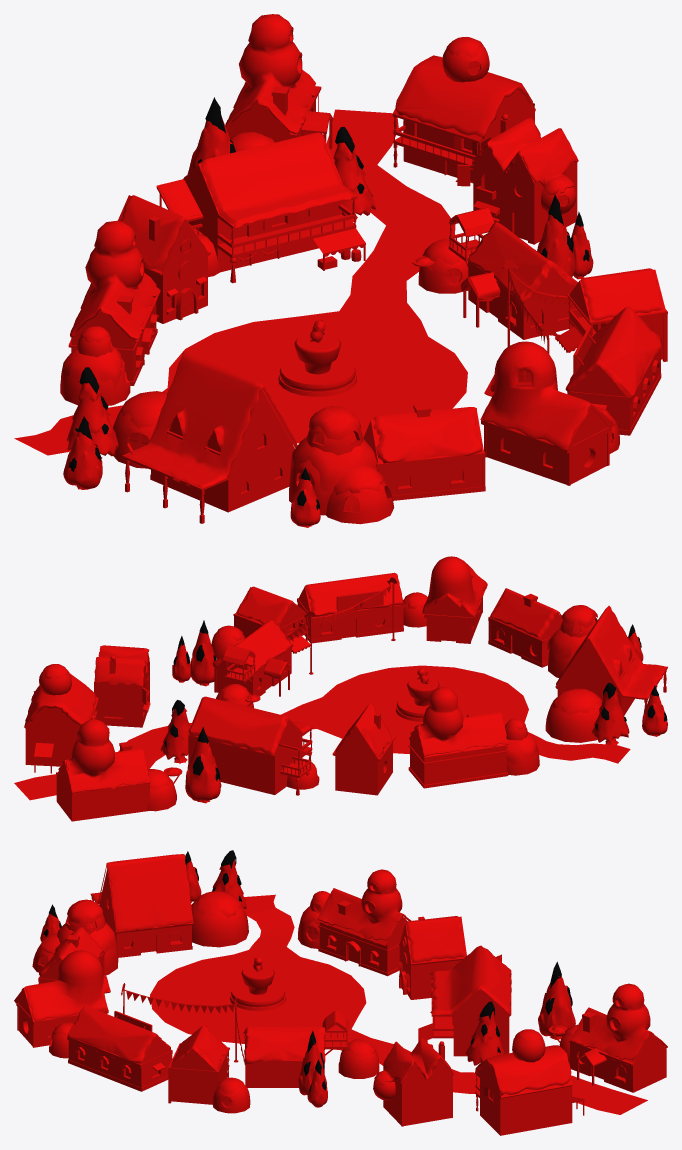
The model's file is Nighborhood_IceBreakerAlley_02.glb.
3 views of the same model, one above another, from view 1: azimuth 30°, elevation 25°; view 2: azimuth 150°, elevation 25°; view 3: azimuth 270°, elevation 25° (orthographic). The views are drawn at different scales.
Parts seen in each view (by area): view 1: Object_Road, Building_Platform2Story, Building_TallRoof, Building_House_1IglooStack, Building_House_FlatRoofIgloo, Building_2Roofs, Building_1StoryHouse, Building_Platformed1Story, Building_House_2IglooStack, Building_House_2IglooStack1, Building_3WayIgloo, Building_House_3Windows (+14 smaller); view 2: Object_Road, Building_Platform2Story, Building_House_2IglooStack1, Building_House_2IglooStack, Building_TallRoof, Building_House_3Windows, Building_House_FlatRoofIgloo, Building_House_1IglooStack, Building_2Roofs, Building_CoffeeShop, Building_Platformed1Story, Building_1StoryHouse (+17 smaller); view 3: Object_Road, Building_TallRoof, Building_House_FlatRoofIgloo, Building_House_2IglooStack, Building_House_2IglooStack1, Building_Platform2Story, Building_House_3Windows, Building_2Roofs, Building_House_1IglooStack, Building_Platformed1Story, Building_CoffeeShop, Building_PurpleTent (+16 smaller).
Boxes of the visible parts, x1,y1,x2,y2 form: Object_Road: (14,109,467,455); Building_Platform2Story: (156,132,365,283); Building_TallRoof: (122,351,297,523); Building_House_1IglooStack: (480,341,615,485); Building_House_FlatRoofIgloo: (392,37,535,183); Building_2Roofs: (457,114,578,244); Building_1StoryHouse: (363,403,485,500); Building_Platformed1Story: (448,207,577,339); Building_House_2IglooStack: (225,14,333,148); Building_House_2IglooStack1: (68,220,160,385); Building_3WayIgloo: (289,406,394,524); Building_House_3Windows: (565,306,662,435); Object_Road: (14,665,630,800); Building_Platform2Story: (187,696,312,795); Building_House_2IglooStack1: (408,687,508,788); Building_House_2IglooStack: (56,719,150,821); Building_TallRoof: (555,605,667,715); Building_House_3Windows: (297,572,405,643); Building_House_FlatRoofIgloo: (24,664,98,773); Building_House_1IglooStack: (422,556,487,643); Building_2Roofs: (94,645,150,727); Building_CoffeeShop: (332,703,395,795); Building_Platformed1Story: (212,619,293,696); Building_1StoryHouse: (488,588,563,667); Object_Road: (150,894,647,1114); Building_TallRoof: (90,854,193,957); Building_House_FlatRoofIgloo: (475,1029,584,1135); Building_House_2IglooStack: (569,983,667,1092); Building_House_2IglooStack1: (317,869,411,976); Building_Platform2Story: (418,945,511,1056); Building_House_3Windows: (67,1005,172,1091); Building_2Roofs: (373,1037,453,1126); Building_House_1IglooStack: (14,950,110,1047); Building_Platformed1Story: (243,1011,348,1087); Building_CoffeeShop: (397,916,466,999); Building_PurpleTent: (168,1025,229,1104).
Size of the model in its own units: 42.51 by 7.59 by 48.9.
